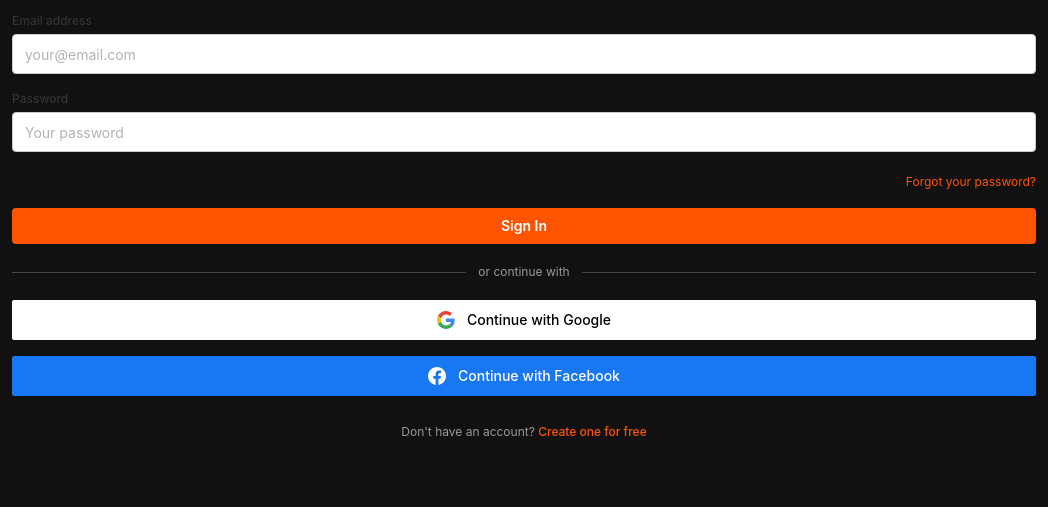
Scenario: LoginForm › shows error message on wrong credentials
The image size is (1048, 507).
Type "wrong@example.com" into the field with test id "login-email-input" at coordinates (524, 54), box [12,34,1036,74]
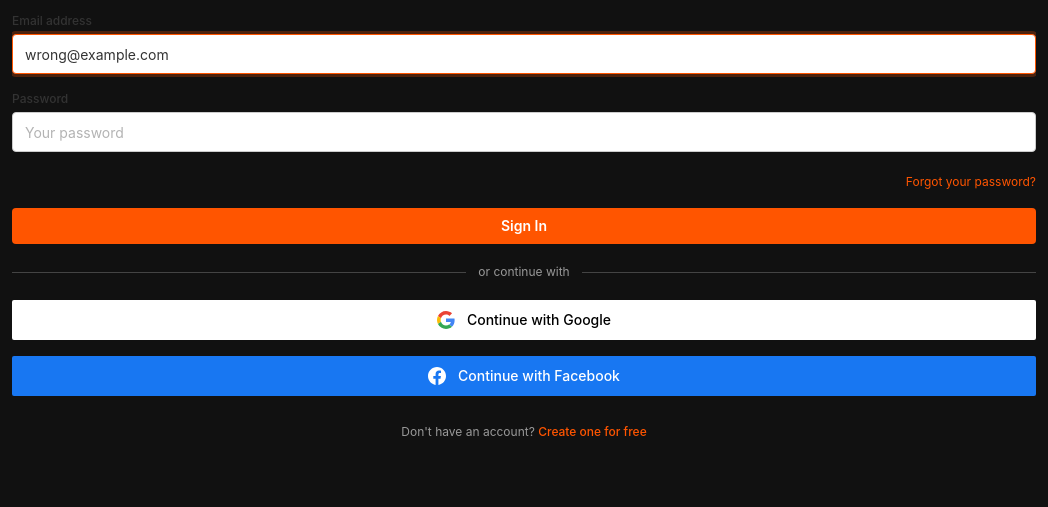
Type "badpass123" into the password field with test id "login-password-input" at coordinates (524, 132), box [12,112,1036,152]
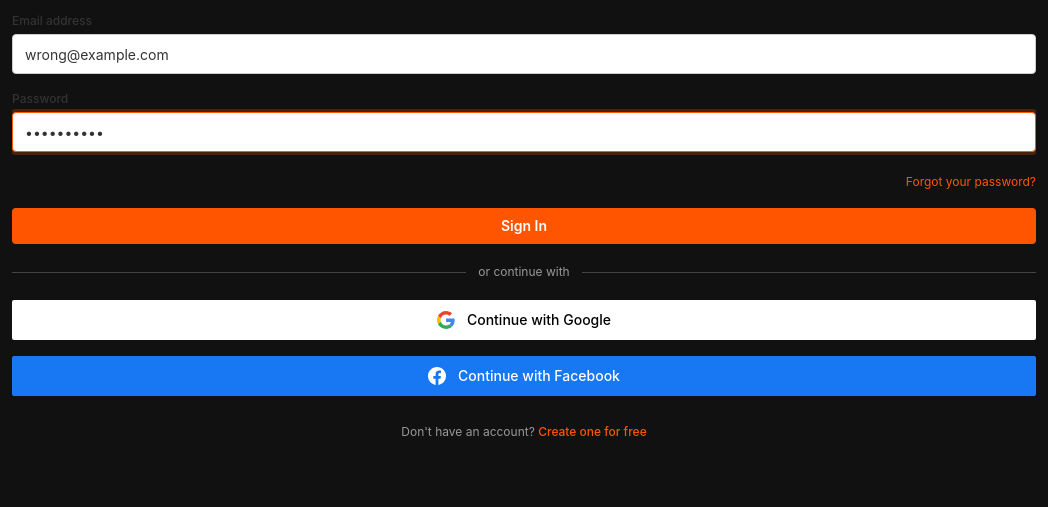
Click the button with test id "login-submit-button" at coordinates (524, 226), box [12,208,1036,244]
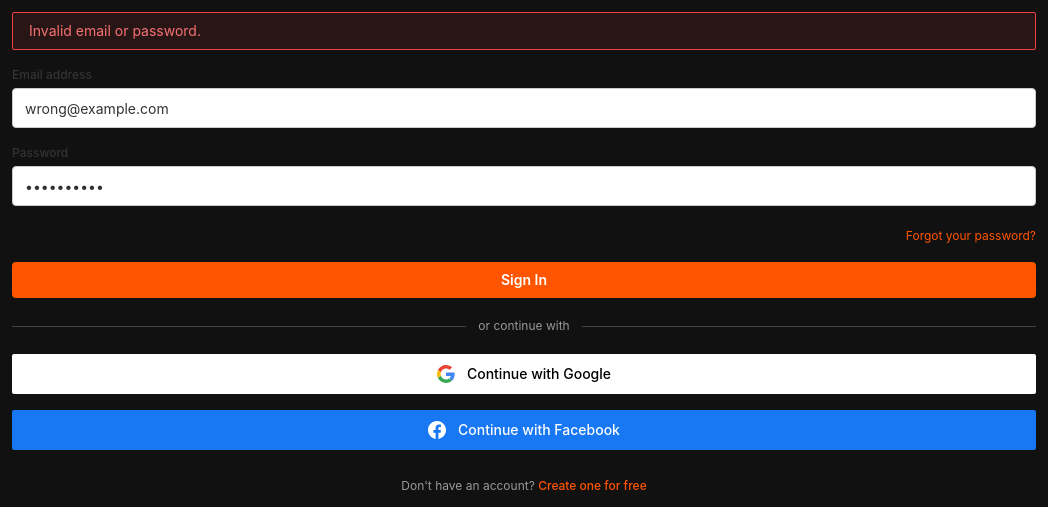
Expected: the text with test id "login-error" reads "Invalid email or password.", [29,22,201,39]
